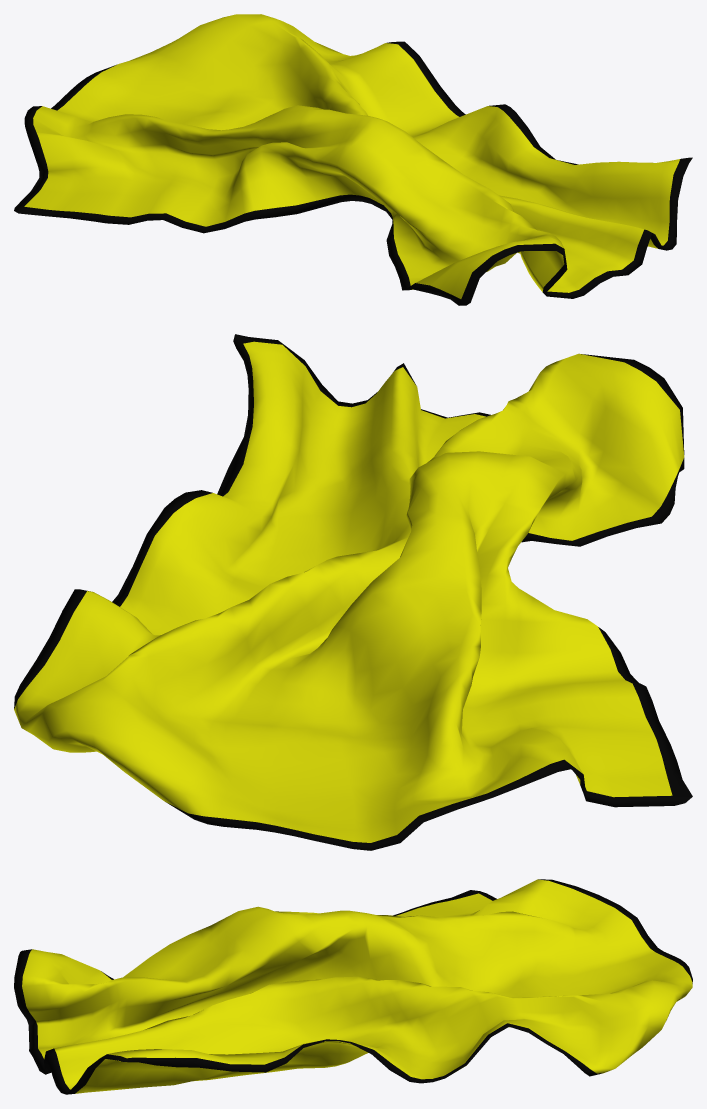
The model's file is Cloth_1.fbx.
3 views of the same model, one above another, from view 1: azimuth 30°, elevation 25°; view 2: azimuth 150°, elevation 25°; view 3: azimuth 270°, elevation 25° (orthographic). The views are drawn at different scales.
Parts seen in each view (by area): view 1: Cloth_1; view 2: Cloth_1; view 3: Cloth_1.
Boxes of the visible parts, x1,y1,x2,y2 form: Cloth_1: (14, 14, 692, 305); Cloth_1: (14, 334, 692, 850); Cloth_1: (14, 879, 692, 1094).
Bounding box in the file's own units: 39.98 × 7.86 × 48.6.
